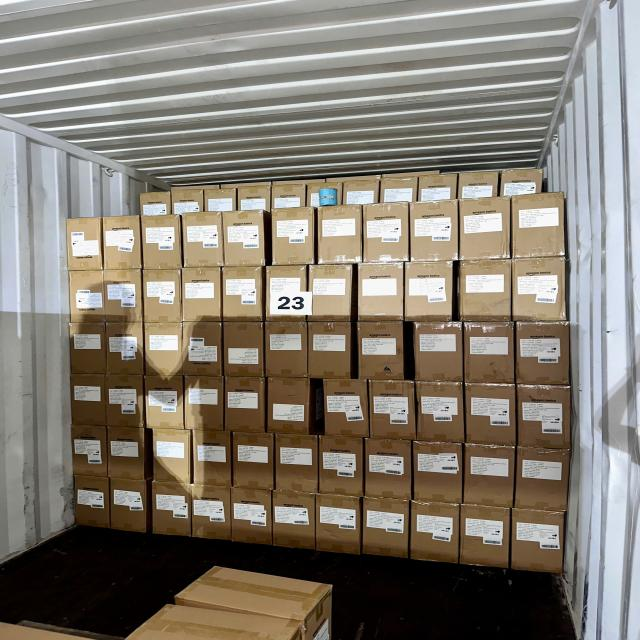Carton: (510, 257, 566, 322), (510, 192, 564, 258), (516, 446, 570, 511), (521, 385, 574, 451), (510, 511, 562, 577), (518, 322, 570, 388), (460, 197, 512, 260), (466, 383, 516, 448), (458, 260, 512, 320), (466, 446, 517, 509), (461, 506, 511, 570), (464, 322, 514, 386), (412, 442, 462, 505), (410, 200, 460, 261), (410, 504, 459, 566), (406, 262, 455, 324), (415, 322, 464, 384), (361, 496, 409, 559), (316, 494, 363, 558), (416, 383, 465, 444), (366, 380, 414, 440), (362, 440, 409, 501), (362, 201, 408, 262), (321, 438, 366, 500), (357, 321, 403, 381), (357, 262, 403, 321), (272, 490, 317, 550), (326, 376, 370, 436), (320, 204, 364, 263), (275, 436, 318, 496), (311, 265, 356, 322), (222, 210, 266, 267), (272, 207, 316, 264), (267, 379, 310, 437), (310, 322, 353, 380), (231, 434, 272, 493), (230, 488, 270, 548), (192, 483, 233, 541), (266, 322, 308, 378), (222, 266, 264, 322), (223, 379, 265, 435), (266, 265, 306, 322), (143, 377, 184, 432), (224, 322, 264, 378), (182, 266, 222, 322), (192, 433, 232, 489), (150, 480, 190, 536), (154, 427, 194, 483), (187, 374, 226, 430), (185, 212, 224, 267), (142, 269, 181, 324), (143, 324, 183, 377), (141, 218, 180, 272), (101, 217, 140, 271), (112, 476, 148, 534), (105, 374, 143, 428), (110, 424, 147, 479), (187, 323, 224, 377), (108, 268, 145, 322), (109, 323, 146, 376), (74, 475, 109, 531), (70, 372, 106, 426), (66, 218, 102, 272), (71, 423, 107, 477), (70, 323, 106, 375), (71, 270, 106, 322), (271, 184, 307, 213), (306, 180, 342, 208), (172, 187, 205, 217), (236, 186, 268, 215), (205, 189, 238, 216), (140, 192, 172, 219)
